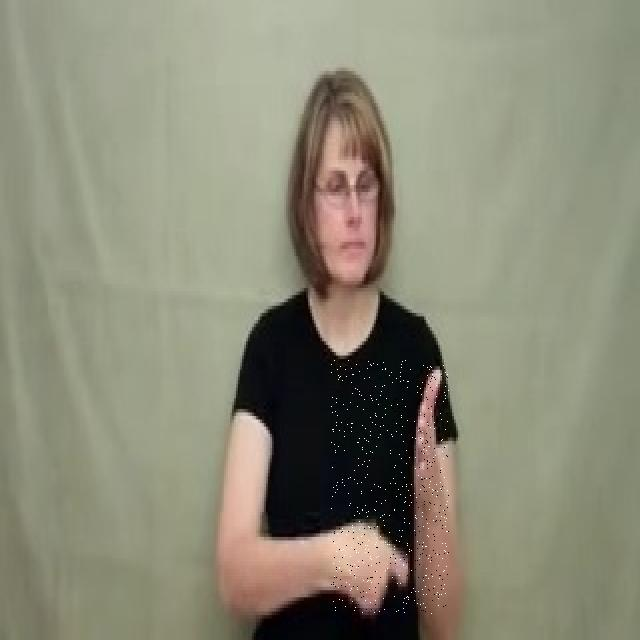cost: (331, 360, 449, 614)
